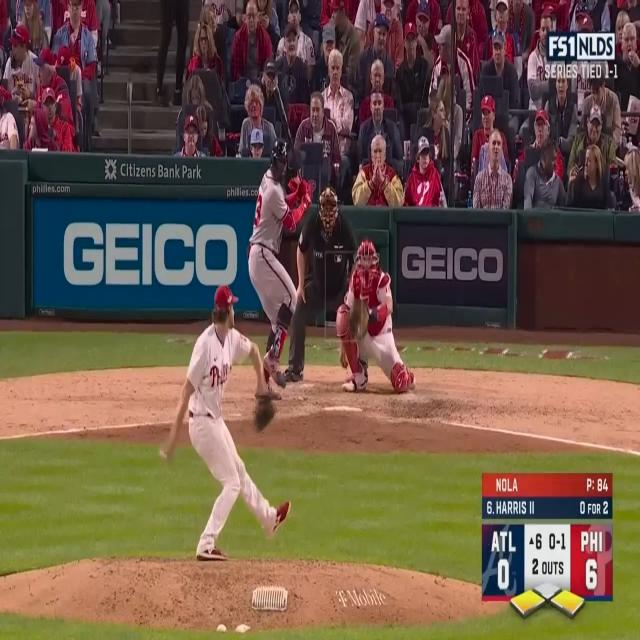baseball: (158, 446, 169, 462)
